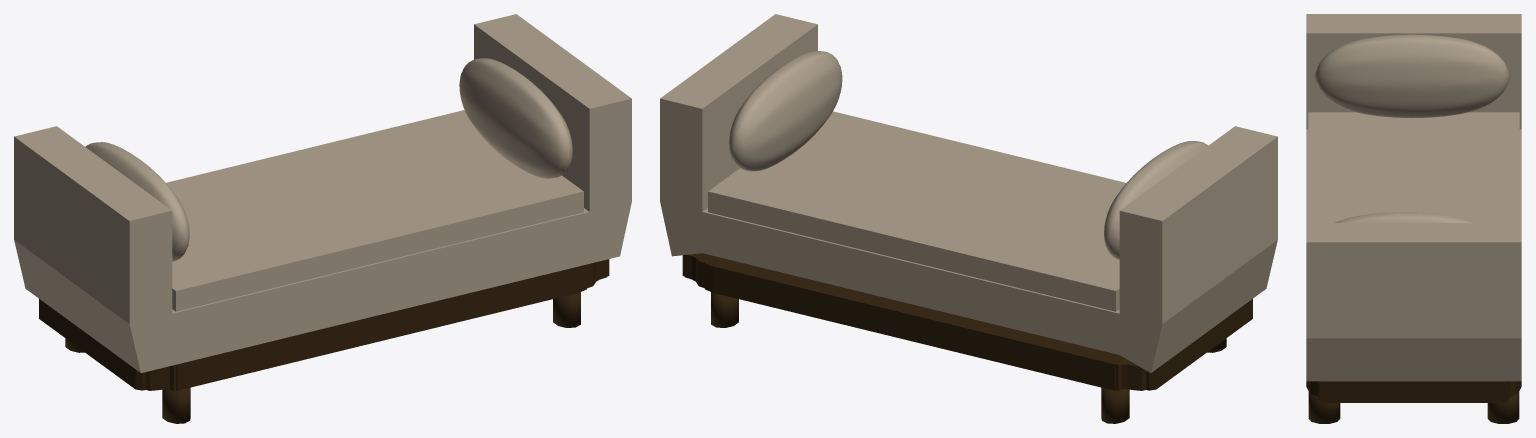
File: Coach.fbx
3 renders of one model, left to right at view 1: azimuth 30°, elevation 25°; view 2: azimuth 150°, elevation 25°; view 3: azimuth 270°, elevation 25°, orthographic. The views are drawn at different scales.
Parts seen in each view (by area): view 1: Coach; view 2: Coach; view 3: Coach.
Part boxes in pixels (x1=…): Coach: x1=14, y1=14, x2=631, y2=423; Coach: x1=660, y1=14, x2=1277, y2=423; Coach: x1=1306, y1=14, x2=1521, y2=423.
Bounding box in the file's own units: 502 × 212 × 200.
